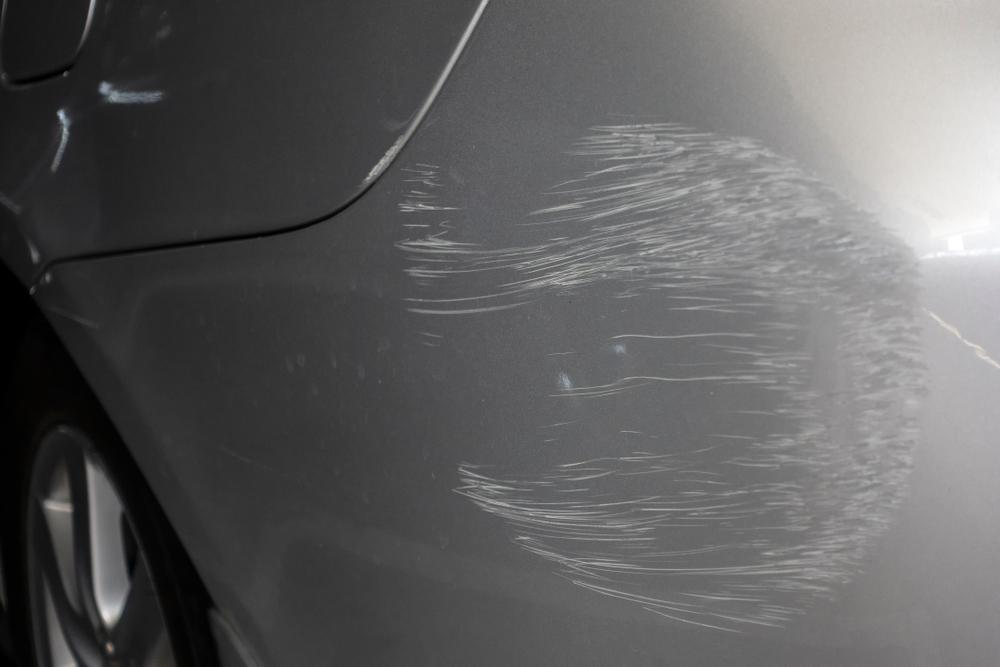scratch: (394, 120, 927, 632)
